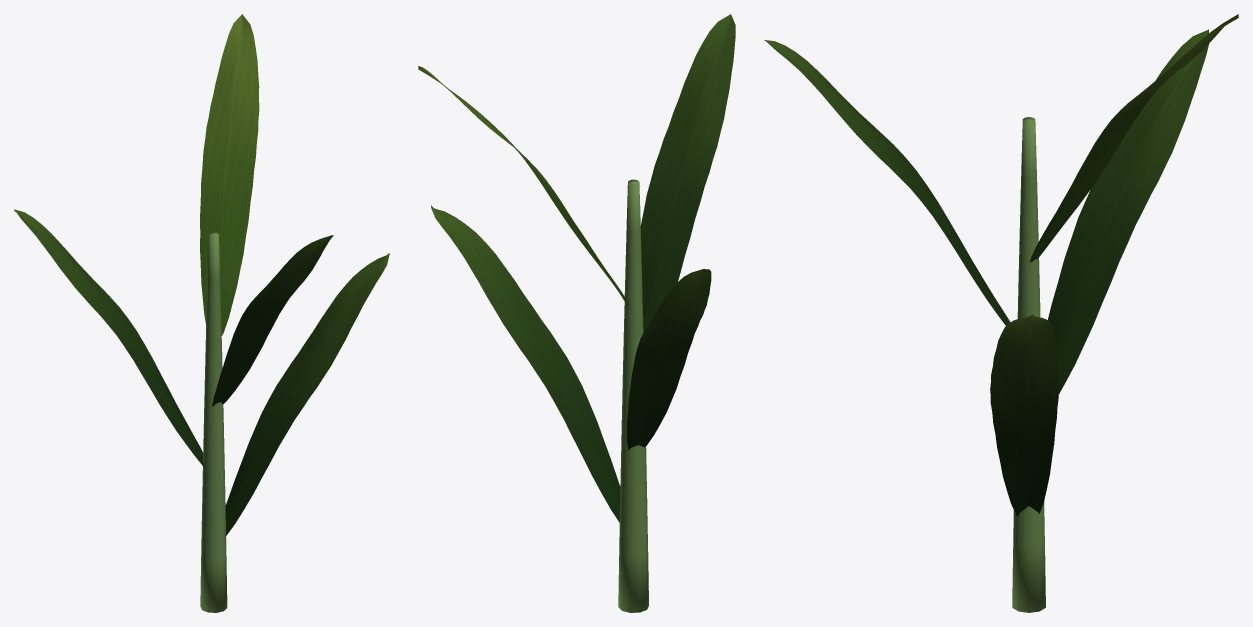
Rendered from iris-03.glb.
3 views of the same model, side by side, from view 1: azimuth 30°, elevation 25°; view 2: azimuth 150°, elevation 25°; view 3: azimuth 270°, elevation 25° (orthographic). The views are drawn at different scales.
Visible parts, largest first — view 1: iris_stage_03_leaf_veins.004, iris_stage_03_young_leaf.004, iris_stage_03_stem_fibres.004; view 2: iris_stage_03_leaf_veins.004, iris_stage_03_stem_fibres.004, iris_stage_03_young_leaf.004; view 3: iris_stage_03_leaf_veins.004, iris_stage_03_stem_fibres.004, iris_stage_03_young_leaf.004.
Boxes of the visible parts, x1,y1,x2,y2 form: iris_stage_03_leaf_veins.004: (14,209,389,536); iris_stage_03_young_leaf.004: (200,14,259,335); iris_stage_03_stem_fibres.004: (200,232,227,612); iris_stage_03_leaf_veins.004: (431,14,735,522); iris_stage_03_stem_fibres.004: (618,179,648,612); iris_stage_03_young_leaf.004: (418,66,629,305); iris_stage_03_leaf_veins.004: (764,29,1208,516); iris_stage_03_stem_fibres.004: (1012,117,1045,612); iris_stage_03_young_leaf.004: (1030,14,1238,262).
Size of the model in its own units: 0.1042 by 0.1645 by 0.107.
Materials: 3 (2 with a texture image).
